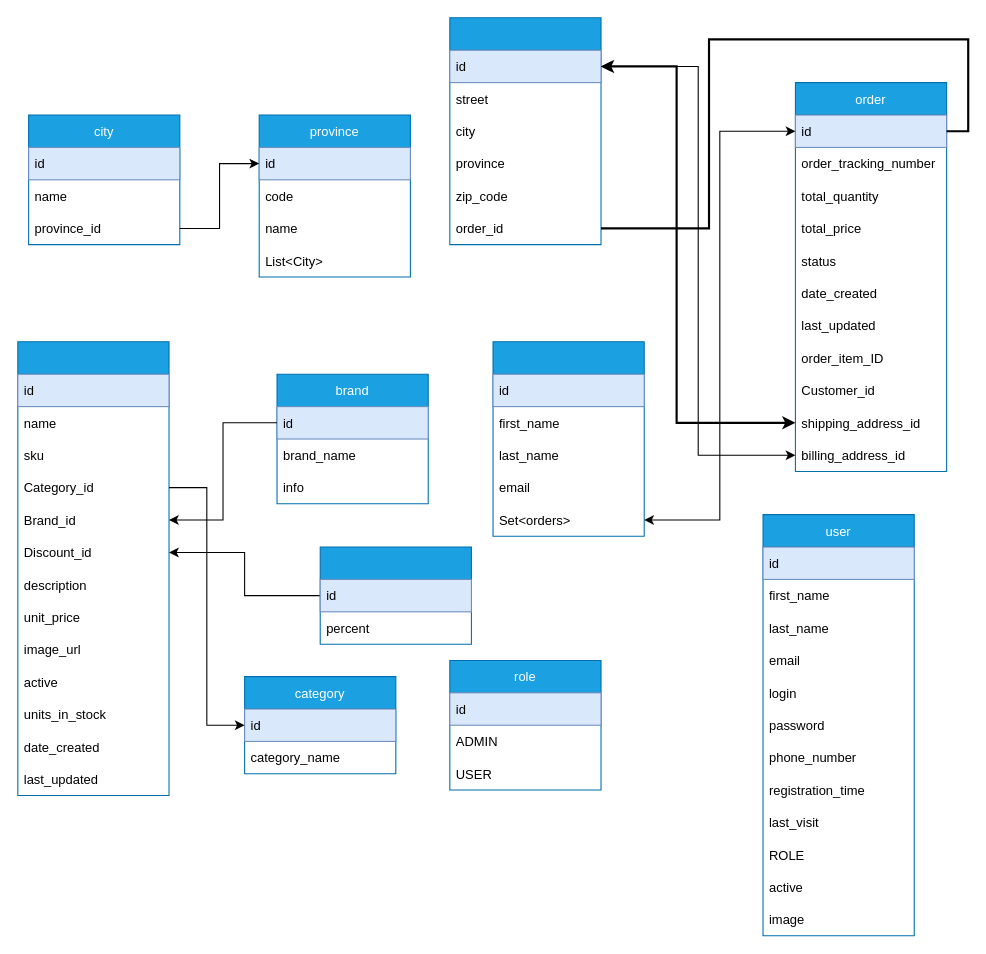
Image size: 986x954. Some labels were removed from this diagram. The box of each missing label's shape, as (x1, y1, x2, y2) in pixels:
address: (449, 17, 601, 245)
customer: (492, 341, 644, 536)
discount: (319, 546, 471, 644)
product: (17, 341, 169, 795)
